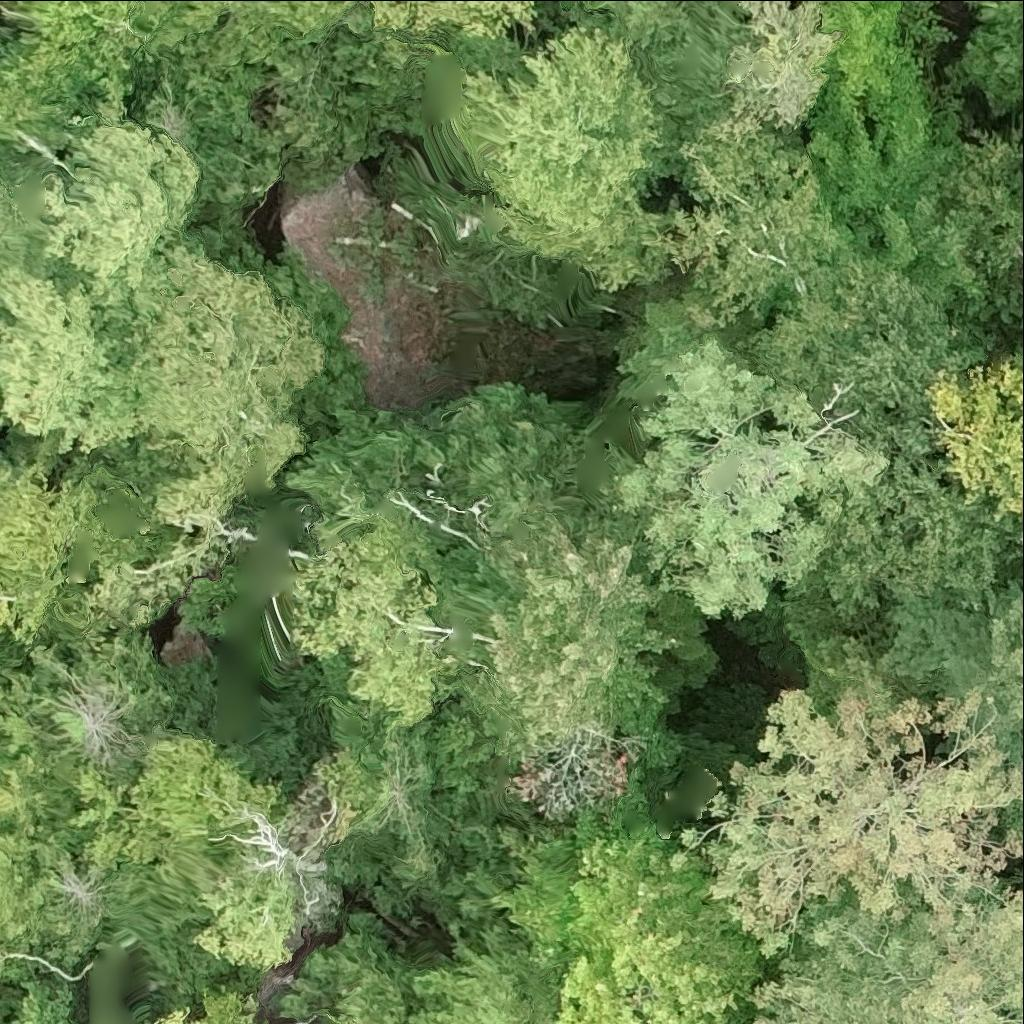crown: (681, 686, 1023, 952), (615, 335, 889, 617), (662, 132, 893, 396), (476, 473, 682, 756), (490, 810, 761, 1023), (464, 26, 679, 284), (751, 882, 1023, 1023), (883, 579, 1023, 700), (411, 914, 561, 1023), (928, 356, 1023, 524), (959, 598, 1023, 774), (962, 0, 1023, 114), (156, 988, 255, 1023)
